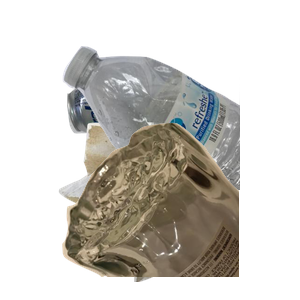glass: (60, 120, 300, 300)
metal: (65, 65, 231, 192)
plastic: (60, 44, 300, 224)
trash: (56, 120, 247, 300)
